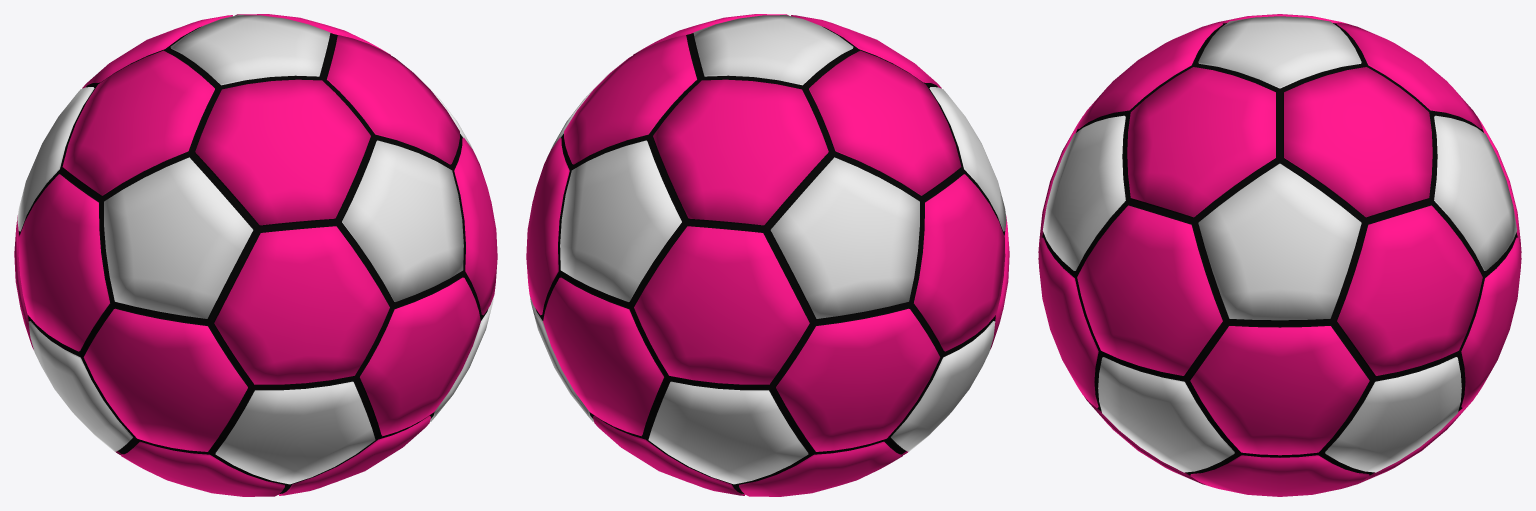
Rendered from soccer.fbx.
3 views of the same model, side by side, from view 1: azimuth 30°, elevation 25°; view 2: azimuth 150°, elevation 25°; view 3: azimuth 270°, elevation 25° (orthographic).
Parts seen in each view (by area): view 1: Icosphere; view 2: Icosphere; view 3: Icosphere.
Boxes of the visible parts, x1,y1,x2,y2 form: Icosphere: (14,14,497,496); Icosphere: (526,14,1009,496); Icosphere: (1038,14,1521,496).
Bounding box in the file's own units: 169 × 169 × 169.
